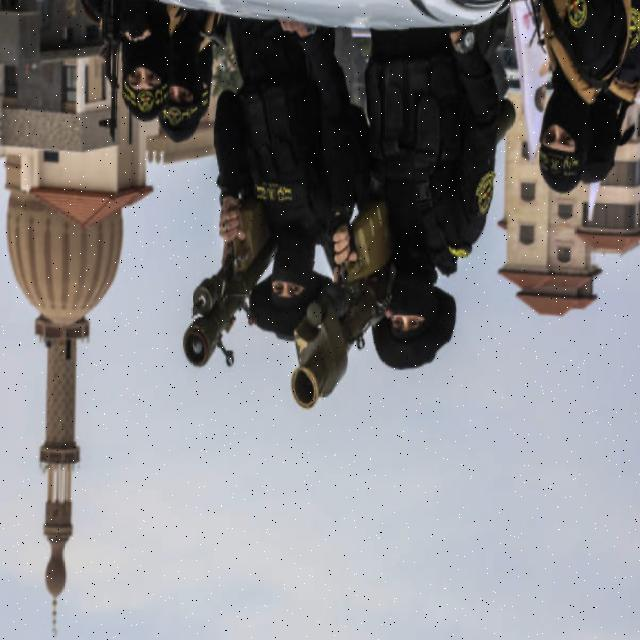bazooka: (181, 220, 275, 382), (286, 249, 376, 415)
